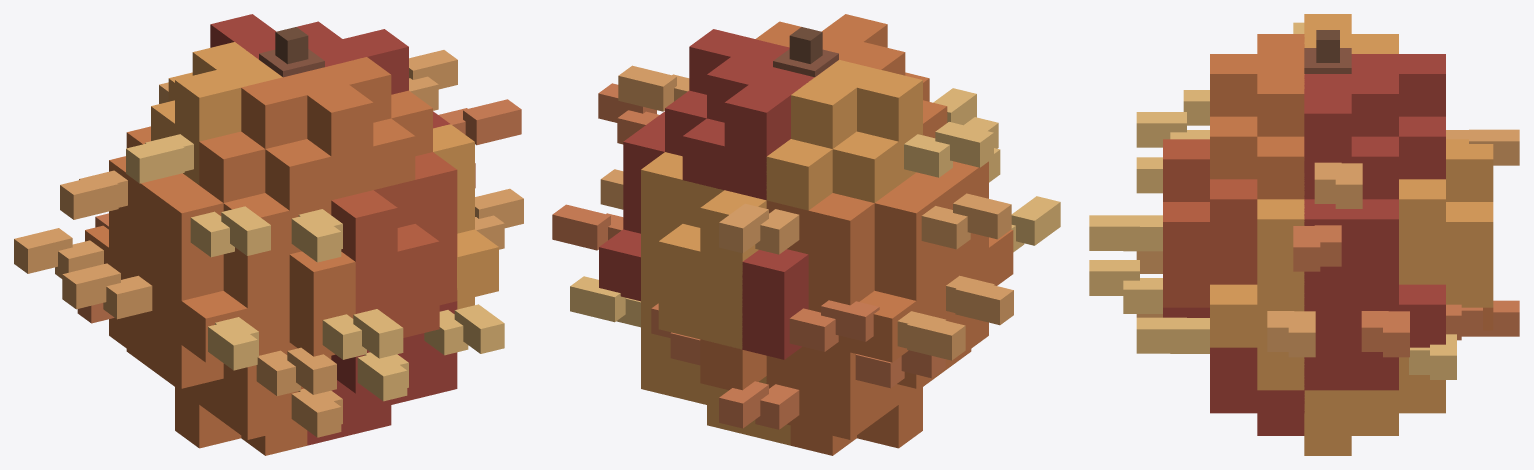
3 views of the same model, side by side, from view 1: azimuth 30°, elevation 25°; view 2: azimuth 150°, elevation 25°; view 3: azimuth 270°, elevation 25° (orthographic). The views are drawn at different scales.
Parts seen in each view (by area): view 1: R162 · original workbench cubes; view 2: R162 · original workbench cubes; view 3: R162 · original workbench cubes.
Boxes of the visible parts, <box> form: R162 · original workbench cubes: <box>14,14,523,455</box>; R162 · original workbench cubes: <box>552,14,1060,455</box>; R162 · original workbench cubes: <box>1089,14,1519,455</box>.
Size of the model in its own units: 0.1417 by 0.1215 by 0.1277.
